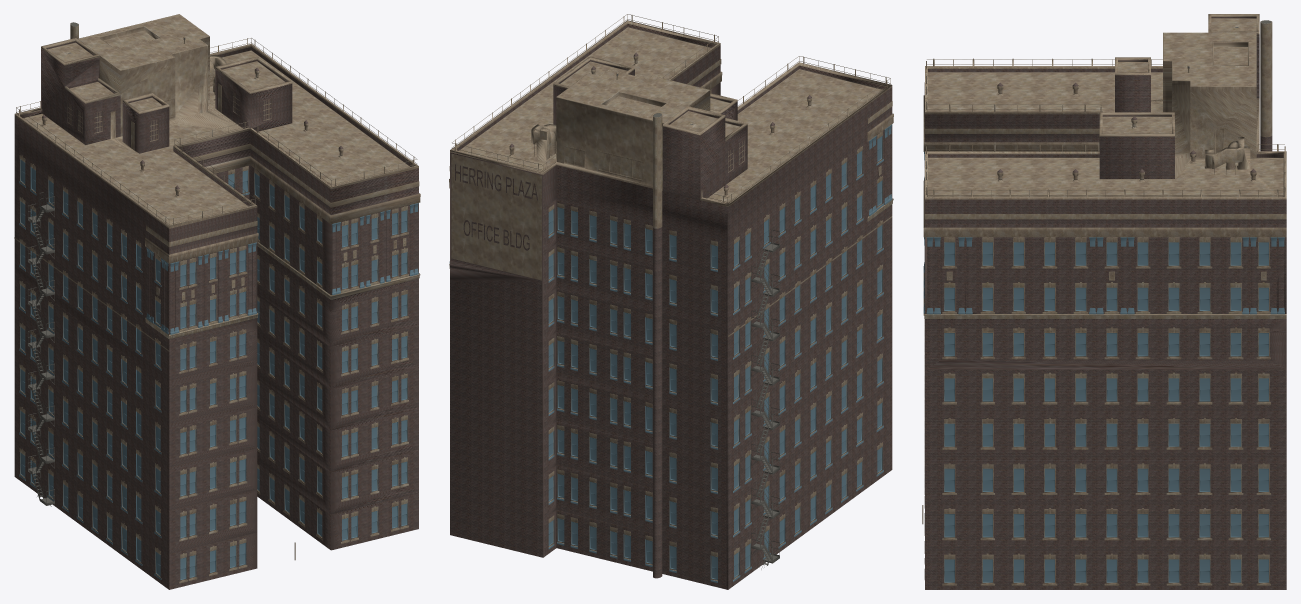
The model's file is building.glb.
The picture shows the model from 3 angles, left to right: view 1: azimuth 30°, elevation 25°; view 2: azimuth 150°, elevation 25°; view 3: azimuth 270°, elevation 25°; orthographic projection. The views are drawn at different scales.
Parts seen in each view (by area): view 1: supplied-hotel|26, supplied-hotel|32, supplied-hotel|11, supplied-hotel|54, supplied-hotel|7, supplied-hotel|10, supplied-hotel|2, supplied-hotel|23, supplied-hotel|22, supplied-hotel|27, supplied-hotel|57, supplied-hotel|59 (+10 smaller); view 2: supplied-hotel|26, supplied-hotel|32, supplied-hotel|11, supplied-hotel|54, supplied-hotel|10, supplied-hotel|64, supplied-hotel|2, supplied-hotel|7, supplied-hotel|23, supplied-hotel|57, supplied-hotel|22, supplied-hotel|59 (+14 smaller); view 3: supplied-hotel|32, supplied-hotel|26, supplied-hotel|54, supplied-hotel|7, supplied-hotel|11, supplied-hotel|10, supplied-hotel|2, supplied-hotel|57, supplied-hotel|23, supplied-hotel|27, supplied-hotel|59, supplied-hotel|52 (+8 smaller).
Part boxes in pixels (box(x1,y1,x2,y2)): supplied-hotel|26: box(20, 41, 418, 589); supplied-hotel|32: box(14, 116, 169, 589); supplied-hotel|11: box(21, 160, 406, 579); supplied-hotel|54: box(24, 43, 409, 225); supplied-hotel|7: box(15, 38, 420, 583); supplied-hotel|10: box(20, 160, 407, 580); supplied-hotel|2: box(20, 22, 407, 580); supplied-hotel|23: box(14, 155, 407, 558); supplied-hotel|22: box(20, 159, 407, 579); supplied-hotel|27: box(147, 212, 417, 328); supplied-hotel|57: box(99, 41, 209, 136); supplied-hotel|59: box(78, 14, 208, 69); supplied-hotel|26: box(450, 24, 886, 589); supplied-hotel|32: box(728, 87, 892, 589); supplied-hotel|11: box(548, 137, 881, 578); supplied-hotel|54: box(460, 28, 882, 203); supplied-hotel|10: box(548, 136, 882, 579); supplied-hotel|64: box(453, 158, 539, 275); supplied-hotel|2: box(509, 62, 882, 580); supplied-hotel|7: box(449, 20, 893, 581); supplied-hotel|23: box(548, 89, 892, 556); supplied-hotel|57: box(556, 95, 710, 187); supplied-hotel|22: box(554, 135, 882, 578); supplied-hotel|59: box(557, 70, 708, 122); supplied-hotel|32: box(925, 237, 1286, 589); supplied-hotel|26: box(925, 17, 1286, 369); supplied-hotel|54: box(928, 19, 1283, 196); supplied-hotel|7: box(923, 14, 1286, 585); supplied-hotel|11: box(945, 243, 1268, 581); supplied-hotel|10: box(944, 242, 1268, 582); supplied-hotel|2: box(944, 20, 1272, 583); supplied-hotel|57: box(1163, 66, 1256, 158); supplied-hotel|23: box(944, 237, 1269, 558); supplied-hotel|27: box(924, 160, 1283, 307); supplied-hotel|59: box(1163, 33, 1255, 86); supplied-hotel|52: box(926, 59, 1284, 197).
Bounding box in the file's own units: 6.51 × 10.43 × 7.34.
4 materials, 2 textured.
